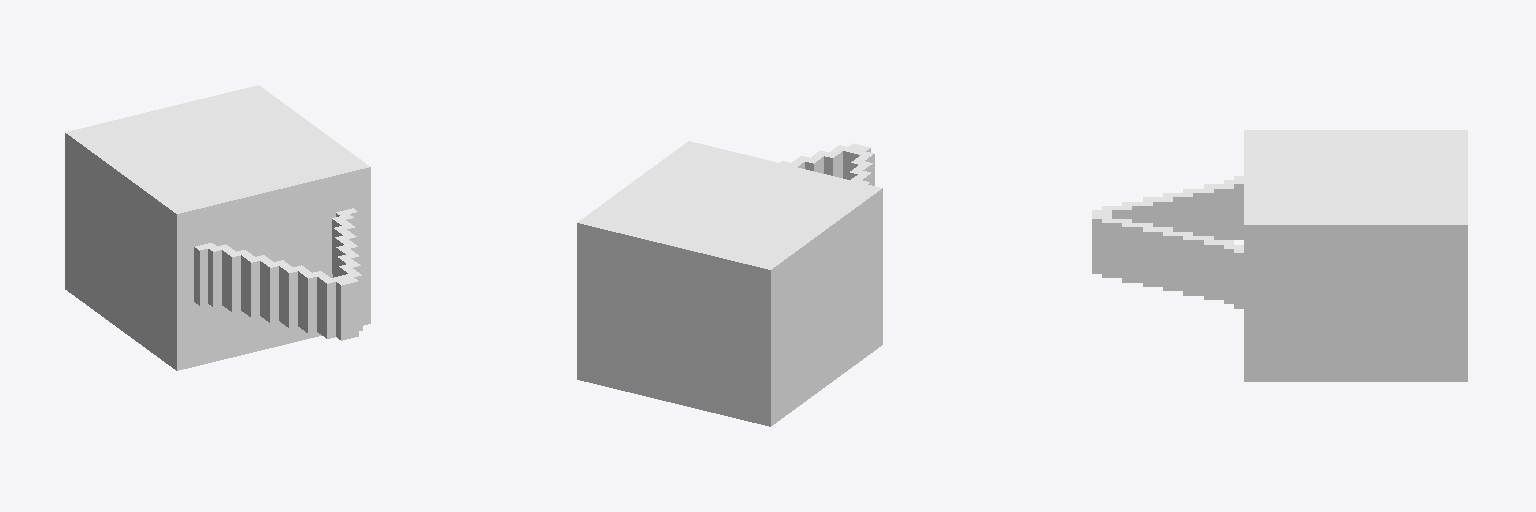
The picture shows the model from 3 angles: view 1: azimuth 30°, elevation 25°; view 2: azimuth 150°, elevation 25°; view 3: azimuth 270°, elevation 25°; orthographic projection.
Parts seen in each view (by area): view 1: object 1; view 2: object 1; view 3: object 1.
Part boxes in pixels (bbox=[...]): object 1: bbox=[65, 85, 370, 370]; object 1: bbox=[577, 141, 882, 426]; object 1: bbox=[1092, 130, 1467, 381].
Bounding box in the file's own units: 2.2 × 1.7 × 3.7.
Materials: 1 (1 with a texture image).